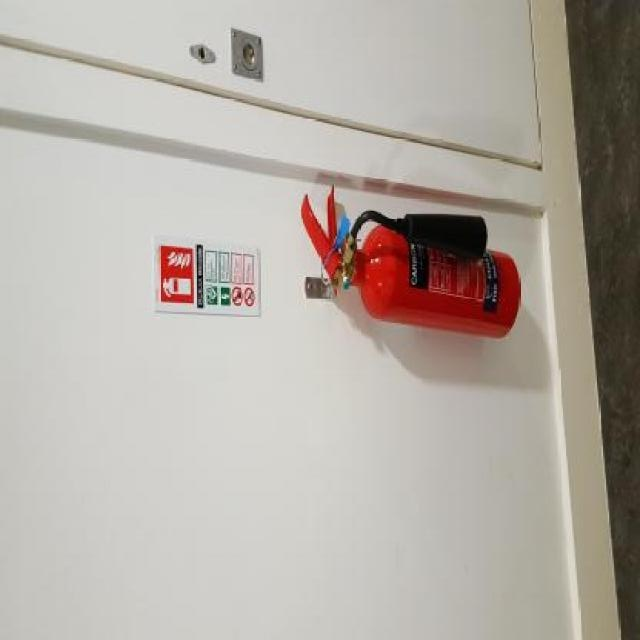fire extinguisher: (298, 178, 522, 340)
